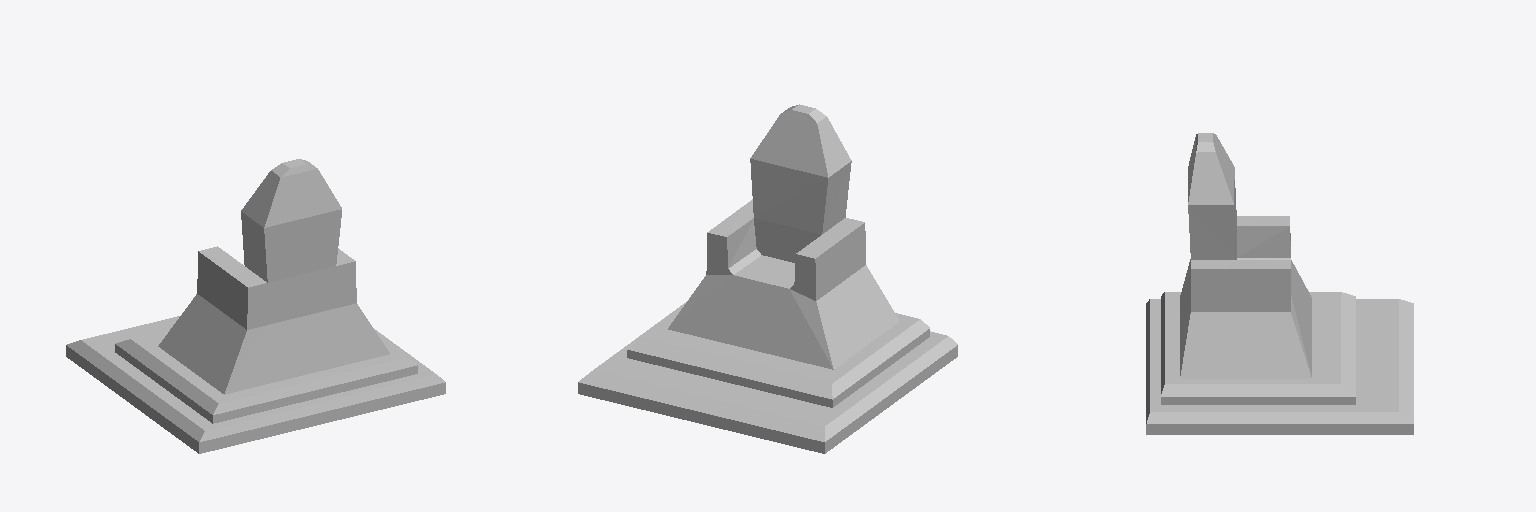
The model's file is Throne.obj.
The picture shows the model from 3 angles: view 1: azimuth 30°, elevation 25°; view 2: azimuth 150°, elevation 25°; view 3: azimuth 270°, elevation 25°; orthographic projection.
Visible parts, largest first — view 1: Ice_Throne:Ice_Throne; view 2: Ice_Throne:Ice_Throne; view 3: Ice_Throne:Ice_Throne.
Boxes of the visible parts, x1,y1,x2,y2 form: Ice_Throne:Ice_Throne: [66, 159, 445, 453]; Ice_Throne:Ice_Throne: [578, 104, 957, 453]; Ice_Throne:Ice_Throne: [1146, 133, 1413, 434].
Bounding box in the file's own units: 39.62 × 36.54 × 37.1.